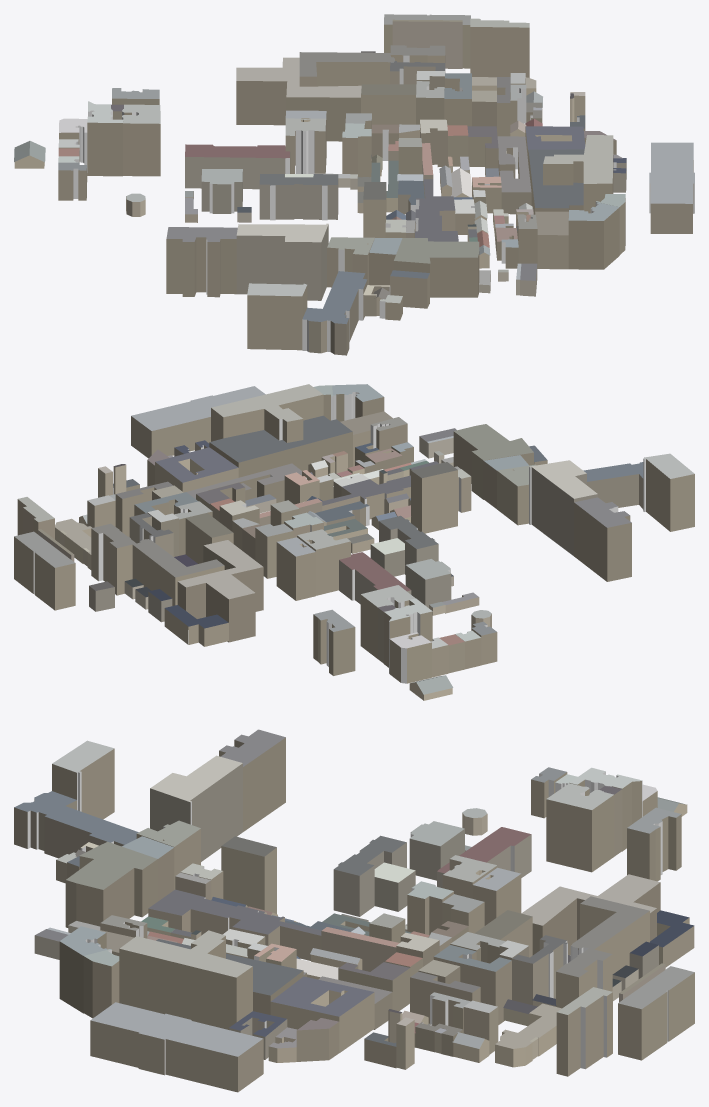
3 views of the same model, one above another, from view 1: azimuth 30°, elevation 25°; view 2: azimuth 150°, elevation 25°; view 3: azimuth 270°, elevation 25° (orthographic). The views are drawn at different scales.
Visible parts, largest first — view 1: tuile; view 2: tuile; view 3: tuile.
Part boxes in pixels (box(x1,y1,x2,y2)): tuile: box(14, 14, 694, 355); tuile: box(14, 384, 694, 700); tuile: box(14, 729, 694, 1092).
Bounding box in the file's own units: 286 × 33.37 × 275.
